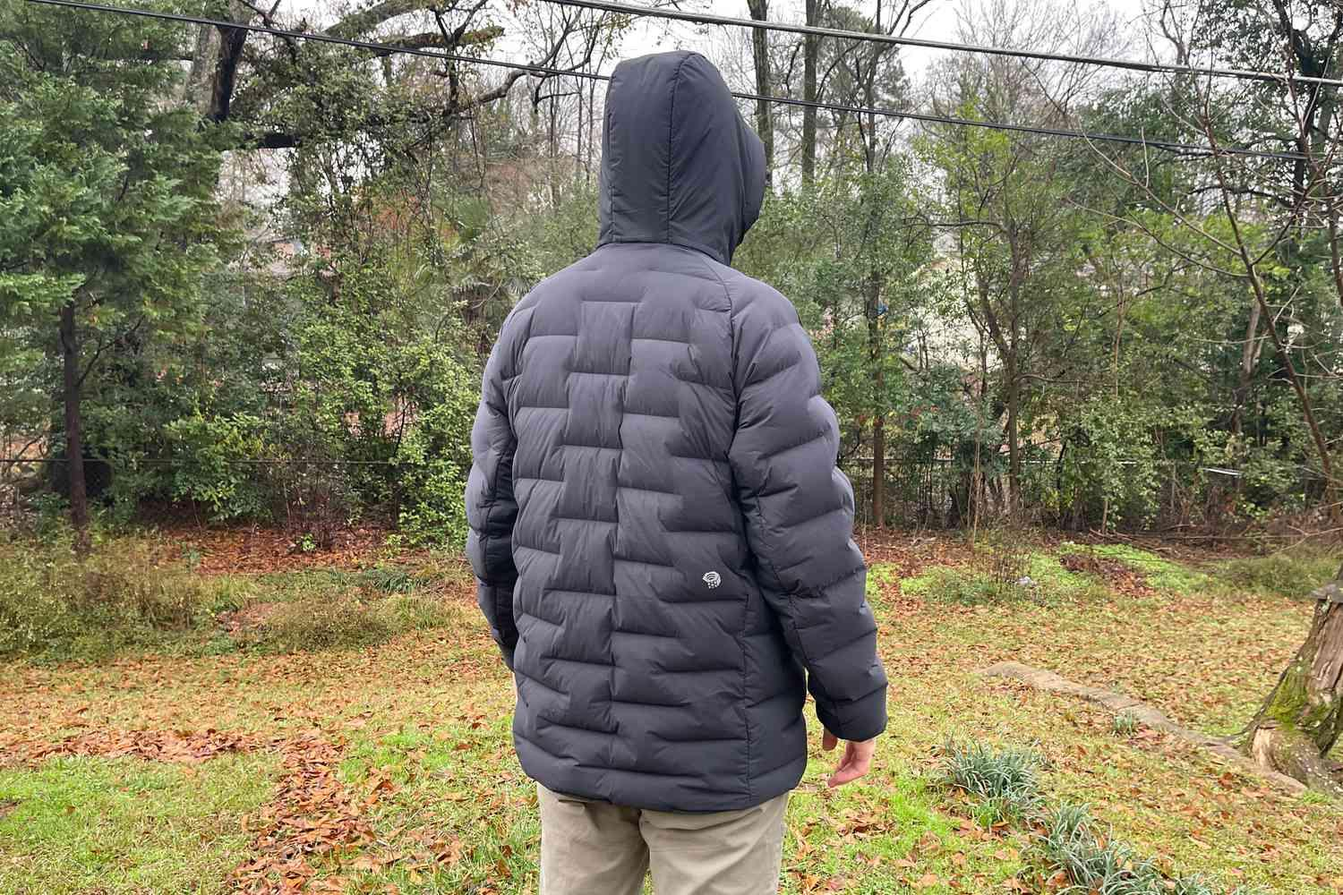coat: (457, 48, 888, 810)
trousers: (526, 776, 793, 895)
